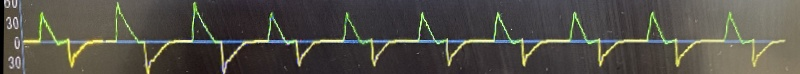normal_flow: (20, 0, 798, 74)
